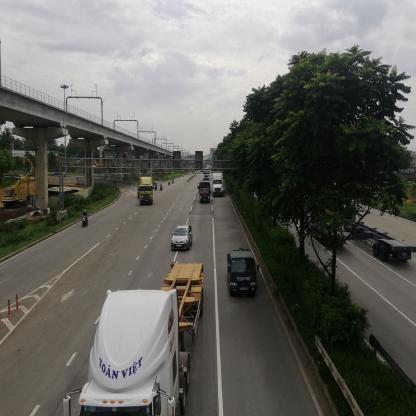car: (172, 227, 193, 252)
container: (64, 262, 204, 416), (139, 177, 154, 206), (214, 174, 227, 199)
motorbike: (82, 210, 89, 230), (156, 185, 159, 193), (162, 184, 164, 193)
truck: (229, 247, 261, 299), (200, 182, 213, 206)
